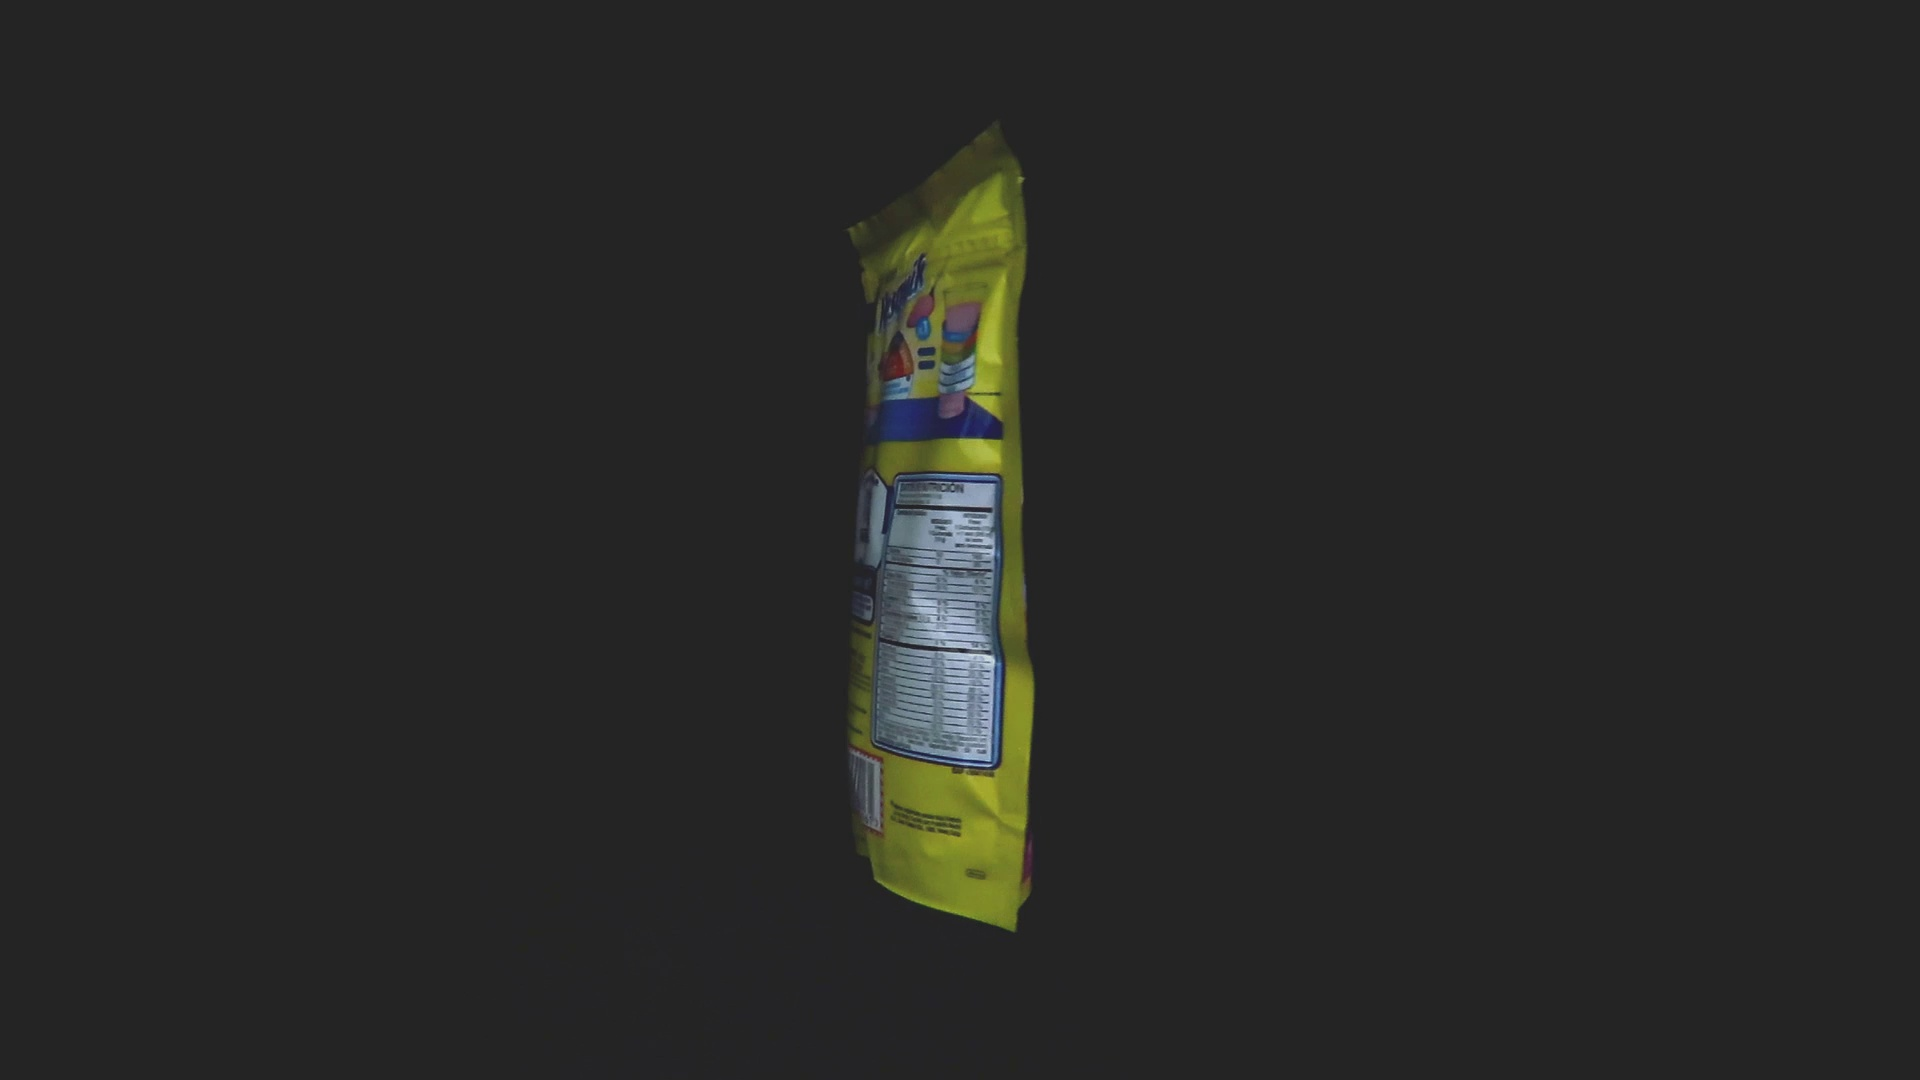COL0170305DYP20000: (844, 247, 1040, 938)
